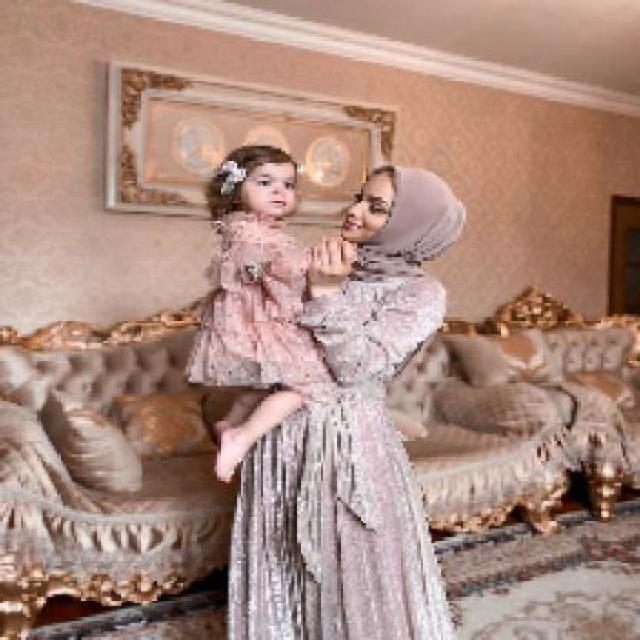child: (182, 144, 312, 482)
